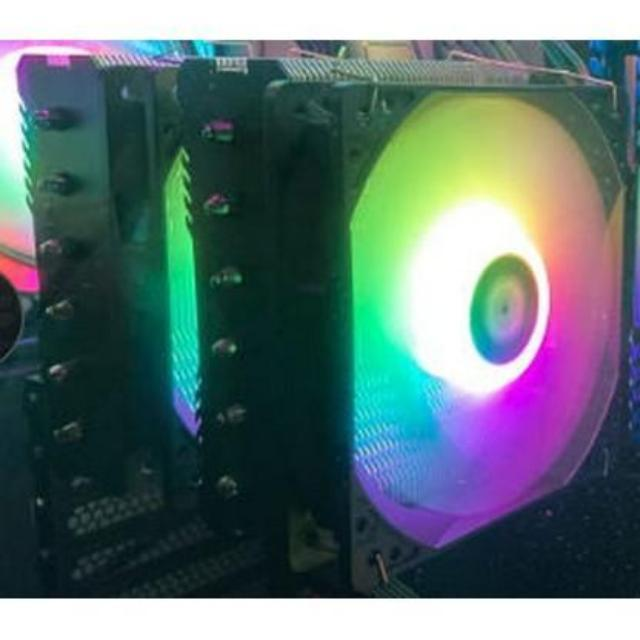CPU_Fan: (14, 50, 632, 590)
